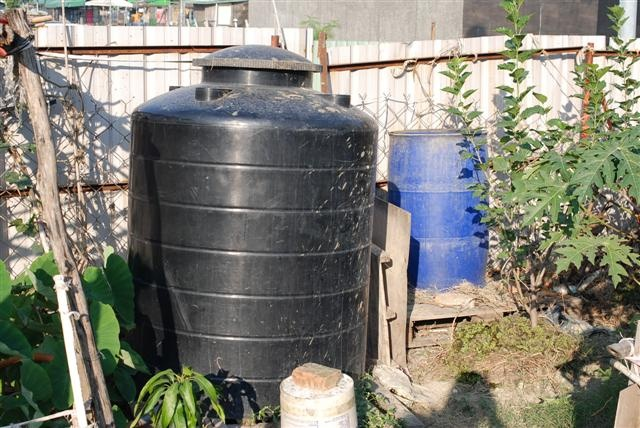bucket: (128, 44, 379, 422), (388, 125, 491, 289), (279, 372, 360, 428)
